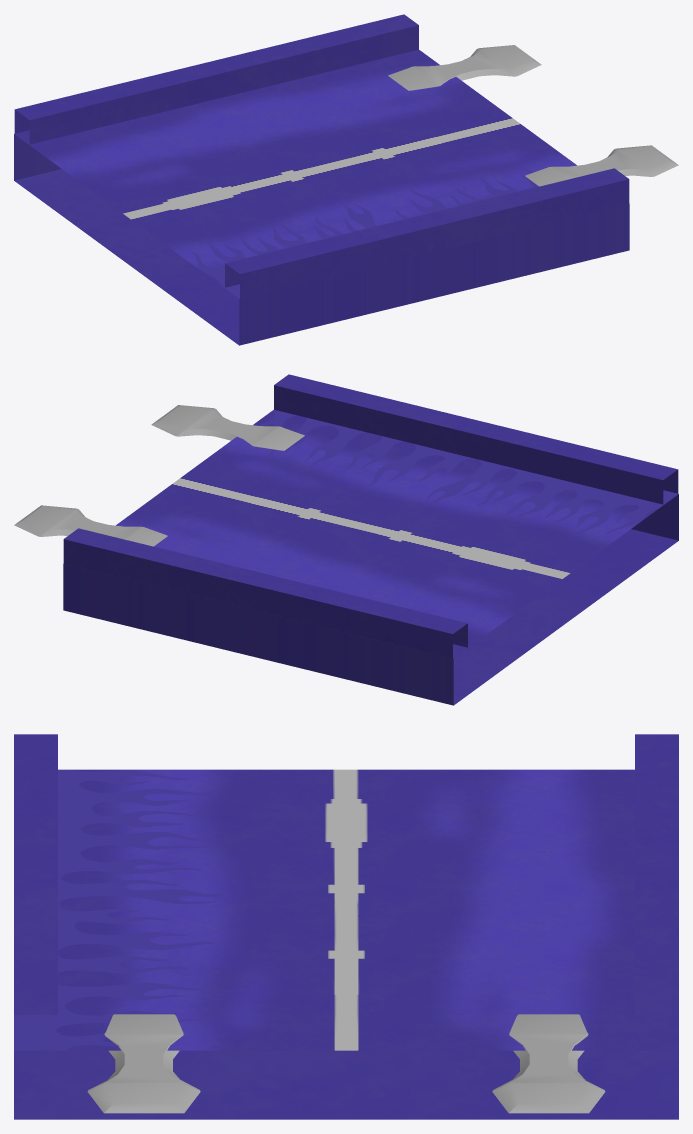
Rendered from PV_TStraightB.fbx.
3 renders of one model, top to bottom at view 1: azimuth 30°, elevation 25°; view 2: azimuth 150°, elevation 25°; view 3: azimuth 270°, elevation 25°, orthographic. The views are drawn at different scales.
Parts seen in each view (by area): view 1: scale13, polySurface15; view 2: scale13, polySurface15; view 3: scale13, polySurface15.
Part boxes in pixels (bbox=[...]): scale13: bbox=[14, 14, 629, 345]; polySurface15: bbox=[388, 45, 678, 186]; scale13: bbox=[63, 374, 678, 705]; polySurface15: bbox=[14, 405, 304, 546]; scale13: bbox=[14, 734, 678, 1119]; polySurface15: bbox=[87, 1014, 605, 1113].
Size of the model in its own units: 2866 by 415 by 2379.
